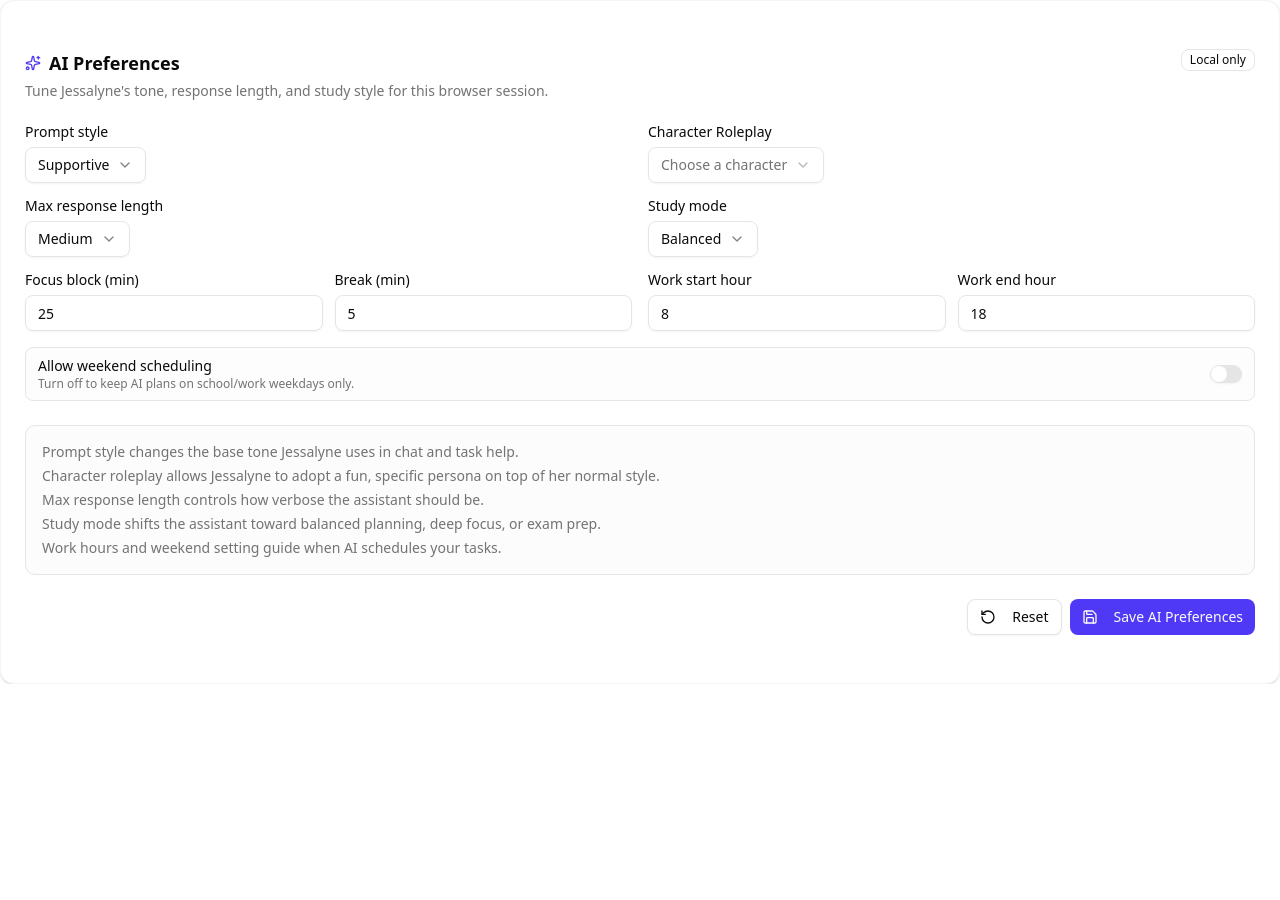
Test: AISettingsPanel Component › shows "AI preferences reset to defaults." message after Reset is clicked
Click the button "Reset" at (1014, 617), box [967,599,1062,635]
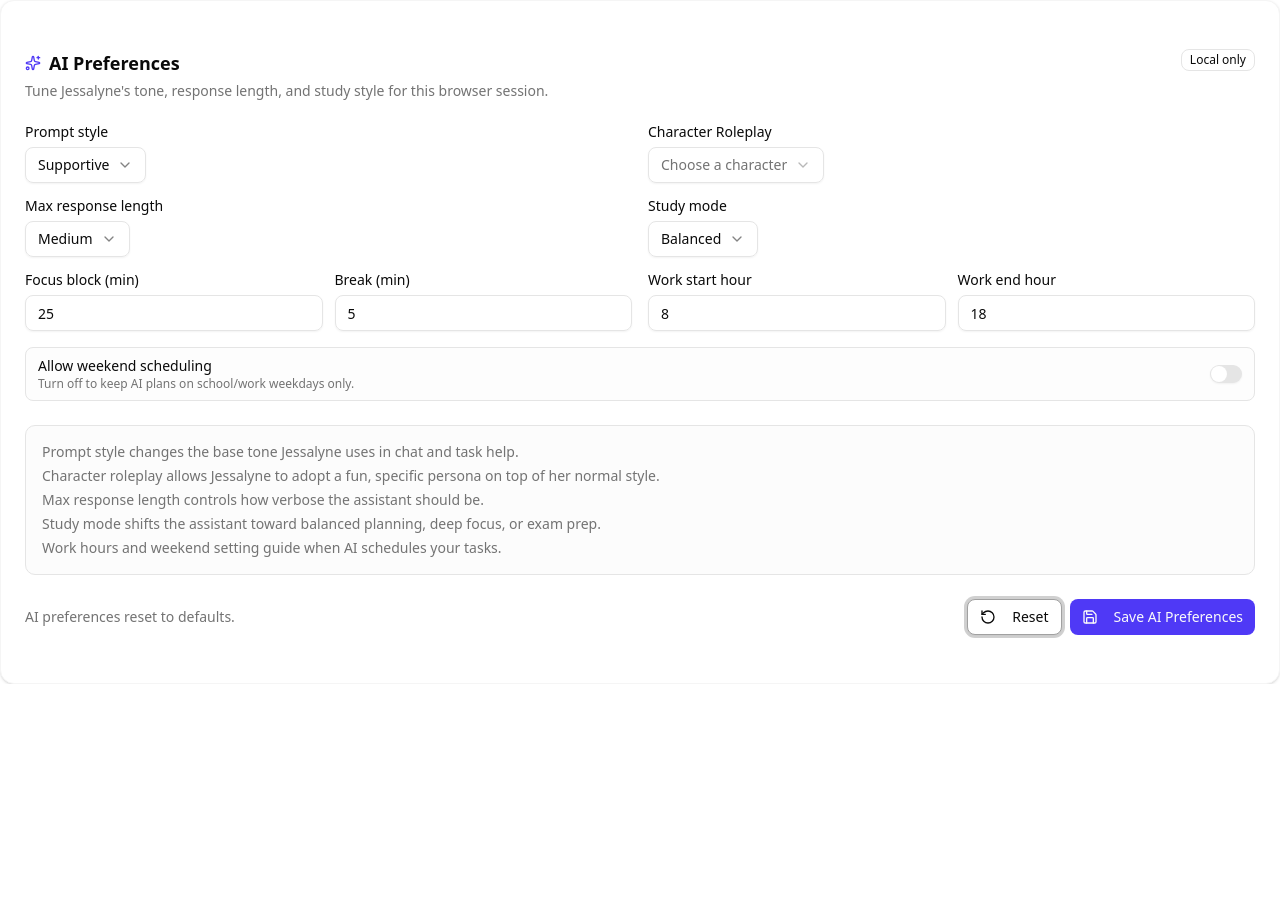
Result: the text "AI preferences reset to defaults." is shown at [25,607,235,627]
